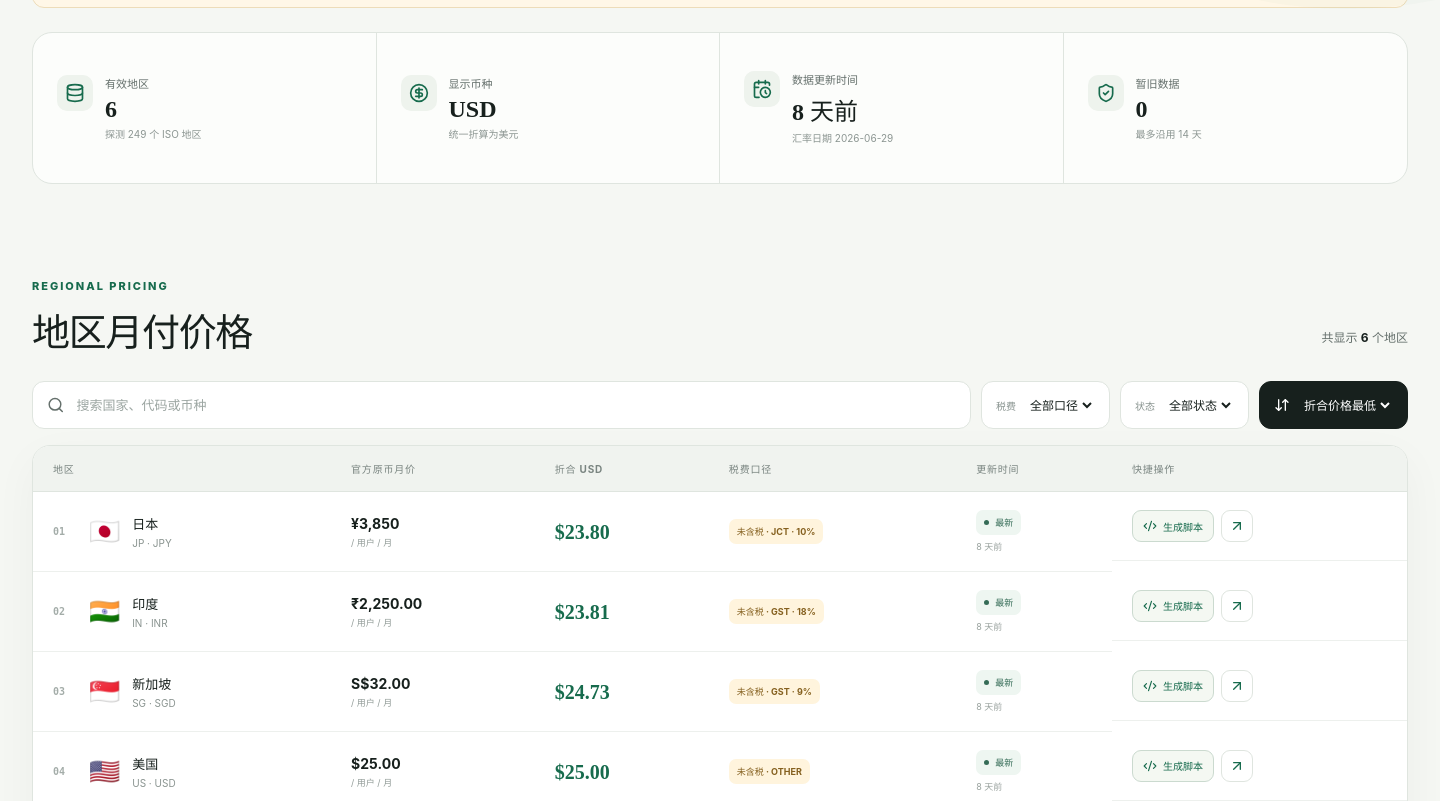
Test: pricing explorer › filters by country and tax treatment
(page scrolled)
Step 1. Type "新加坡" into the field with placeholder "搜索国家、代码或币种" → [515, 405], box [74, 396, 956, 414]
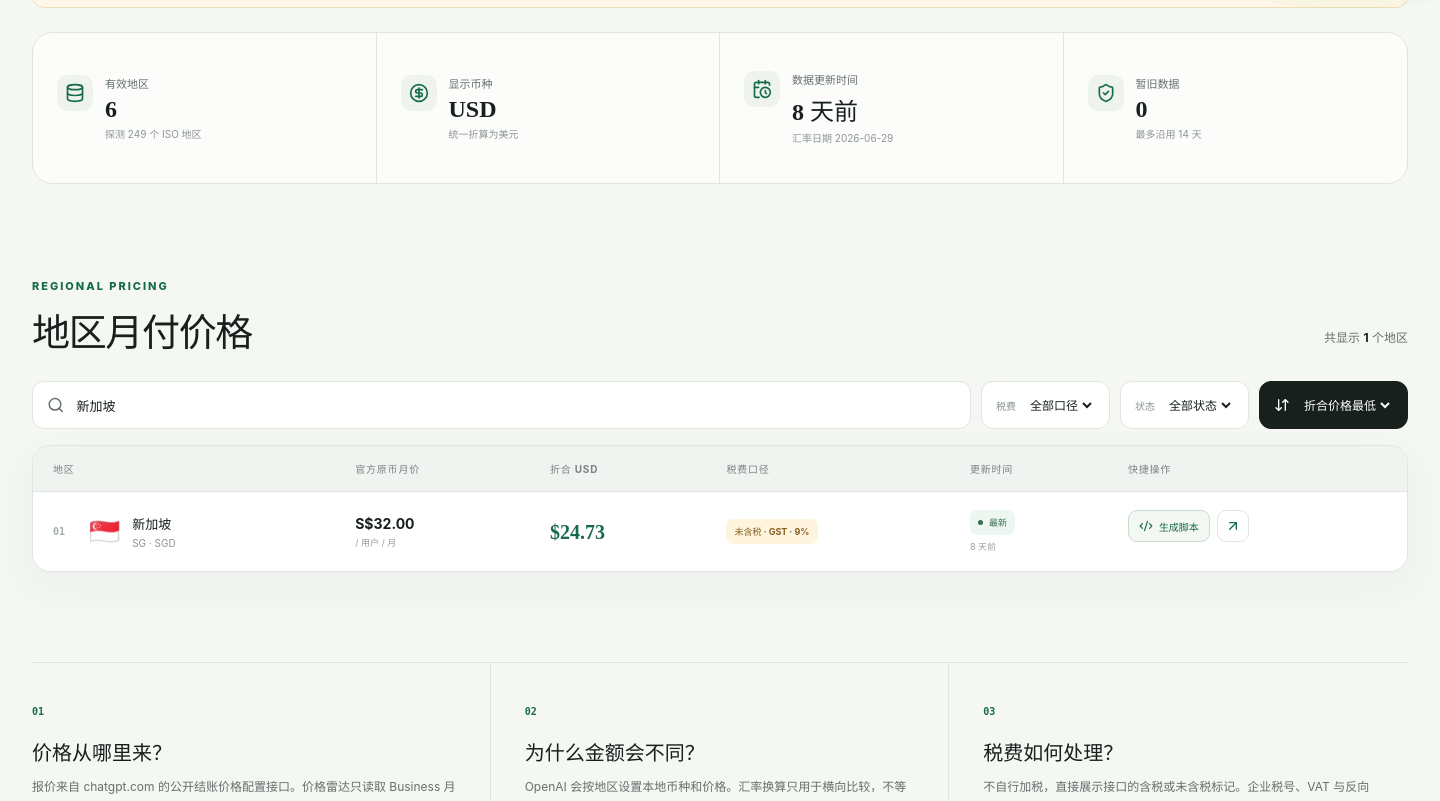
expect the text "新加坡" is shown: met, box [132, 514, 176, 533]
Step 2. Clear the field with placeholder "搜索国家、代码或币种" → [515, 405], box [74, 396, 956, 414]
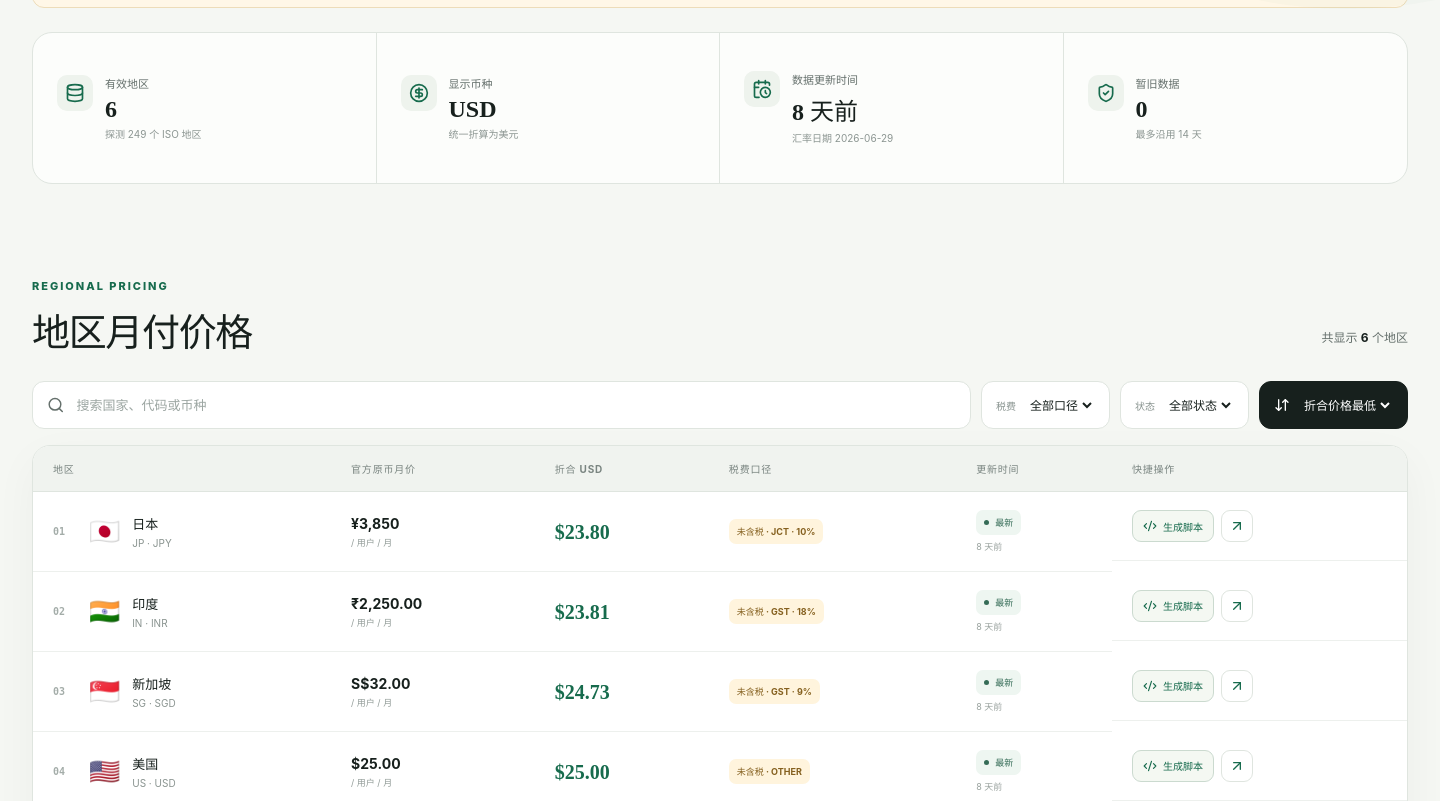
Step 3. Select "含税" in the dropdown labelled "税费" → [1060, 405], box [1026, 396, 1095, 414]
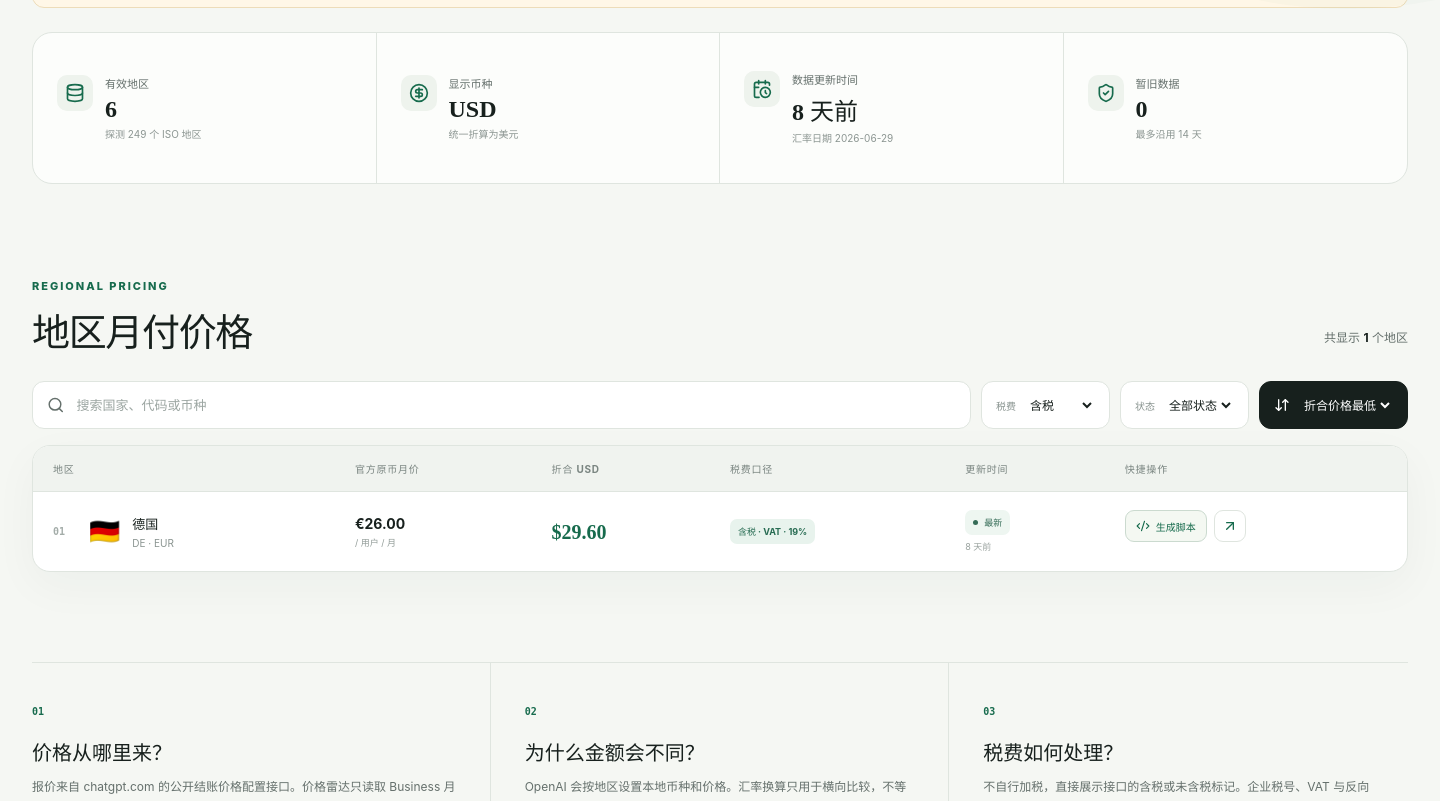
expect the text "德国" is shown: met, box [132, 516, 158, 532]
expect the text "新加坡" is gone: met
